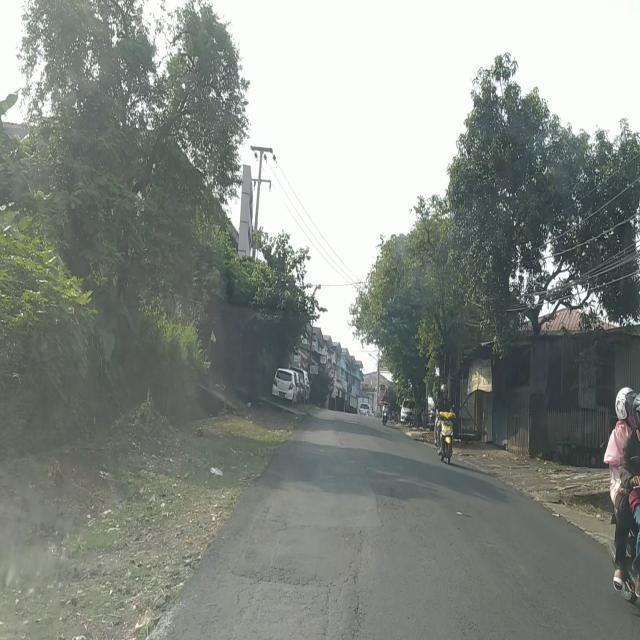Drain Hole: (244, 555, 366, 640)
